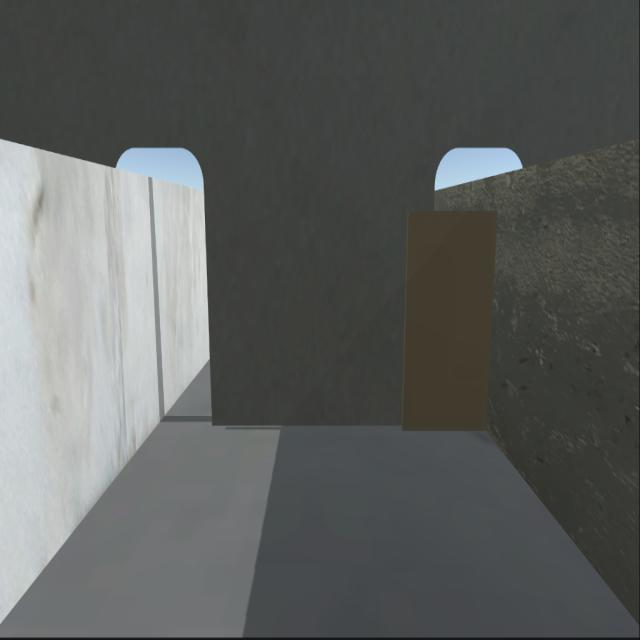fillet_yong_jeop_jang: (210, 425, 492, 434)
longi_yong_jeop_jang: (484, 224, 499, 429)
plate_CP01: (410, 212, 494, 432)
